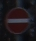No entry: (5, 5, 31, 36)
